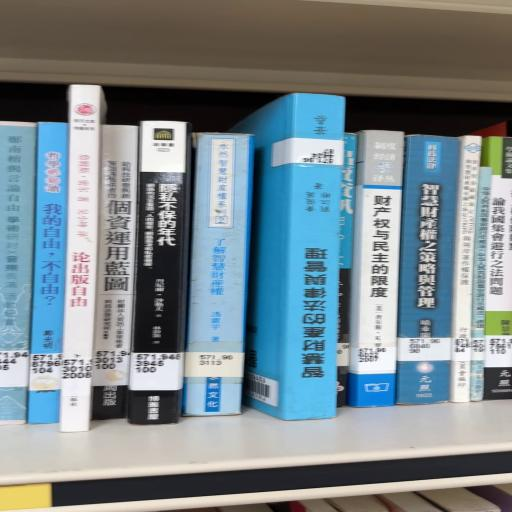reverse: (233, 94, 346, 421)
